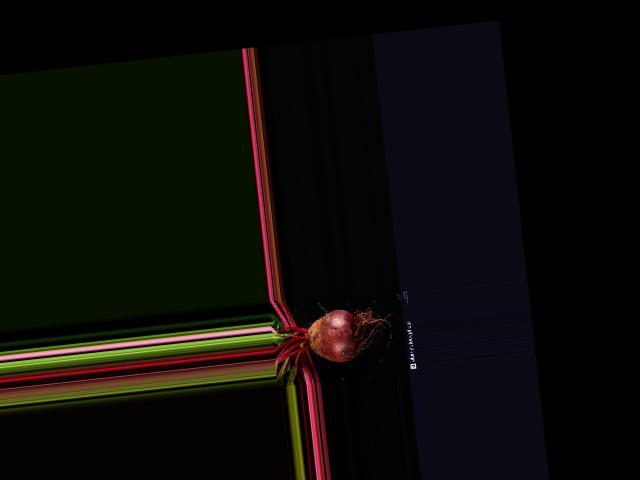beet: (269, 302, 402, 387)
